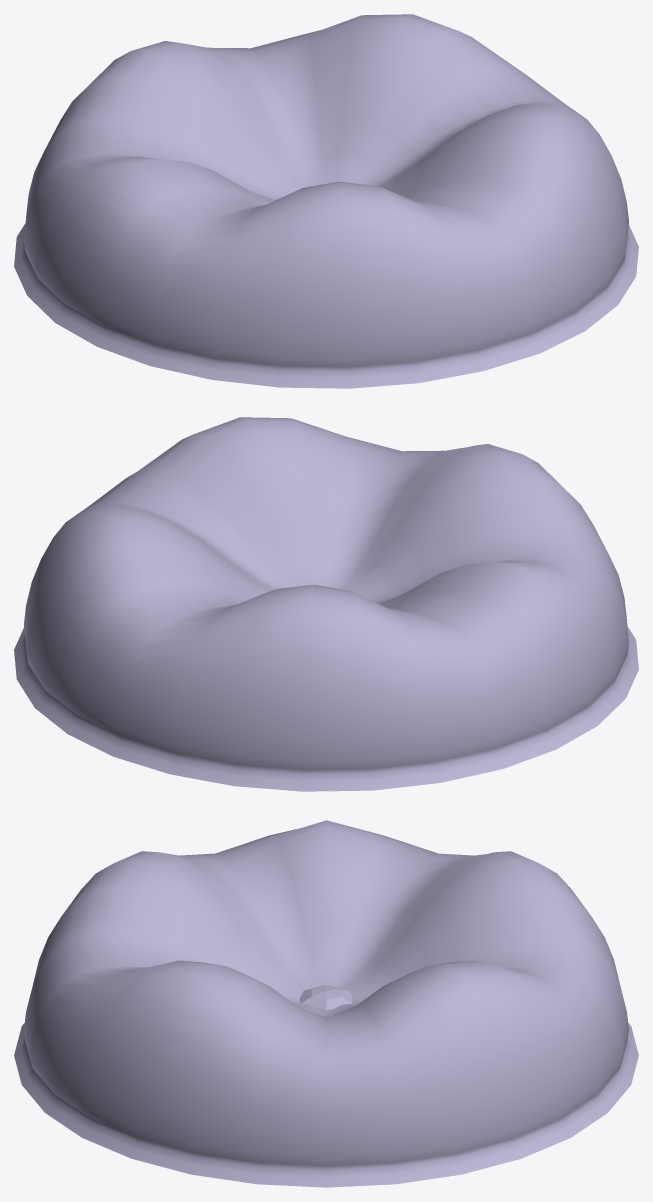
File: Pillow02.fbx
The picture shows the model from 3 angles, top to bottom: view 1: azimuth 30°, elevation 25°; view 2: azimuth 150°, elevation 25°; view 3: azimuth 270°, elevation 25°; orthographic projection.
Visible parts, largest first — view 1: Pillow02; view 2: Pillow02; view 3: Pillow02.
Part boxes in pixels (x1,y1,x2,y2): Pillow02: (14, 14, 638, 388); Pillow02: (14, 417, 638, 791); Pillow02: (14, 820, 638, 1187).
Bounding box in the file's own units: 4.19 × 1.14 × 4.19.
